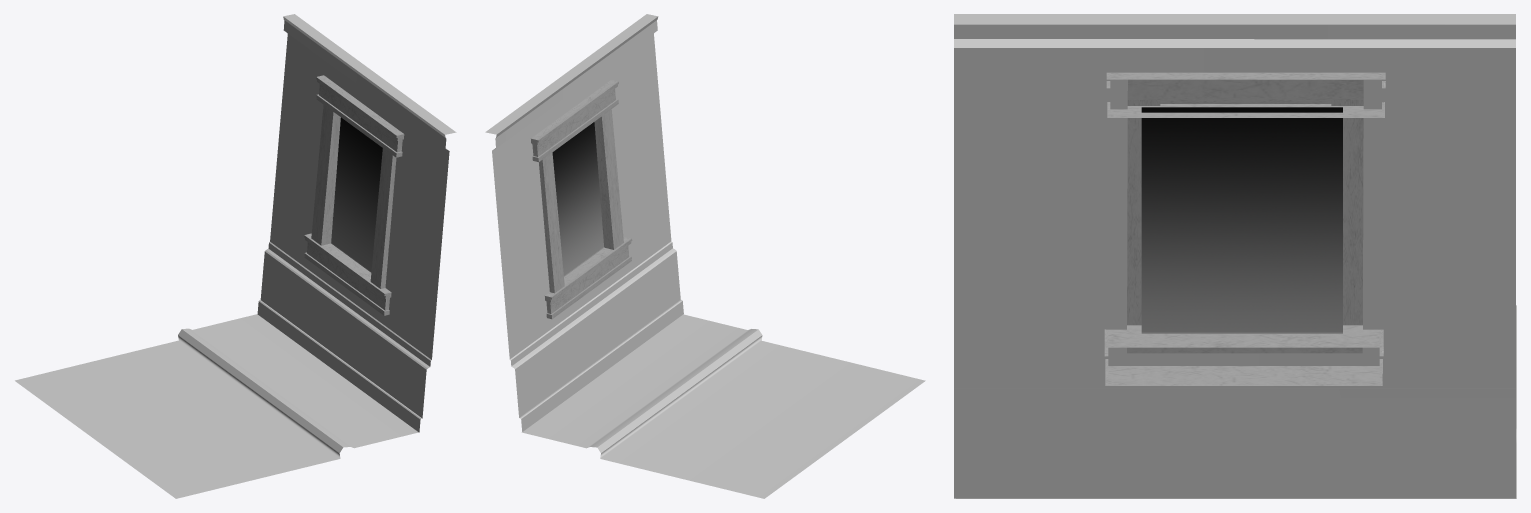
The model's file is exteriorWall_Window.fbx.
The picture shows the model from 3 angles, left to right: view 1: azimuth 30°, elevation 25°; view 2: azimuth 150°, elevation 25°; view 3: azimuth 270°, elevation 25°; orthographic projection. The views are drawn at different scales.
Parts seen in each view (by area): view 1: exteriorBrick_Window; view 2: exteriorBrick_Window; view 3: exteriorBrick_Window.
Part boxes in pixels (bbox=[...]): exteriorBrick_Window: bbox=[15, 14, 456, 498]; exteriorBrick_Window: bbox=[485, 14, 925, 498]; exteriorBrick_Window: bbox=[954, 14, 1516, 498].
Bounding box in the file's own units: 3 × 3.06 × 3.01.
